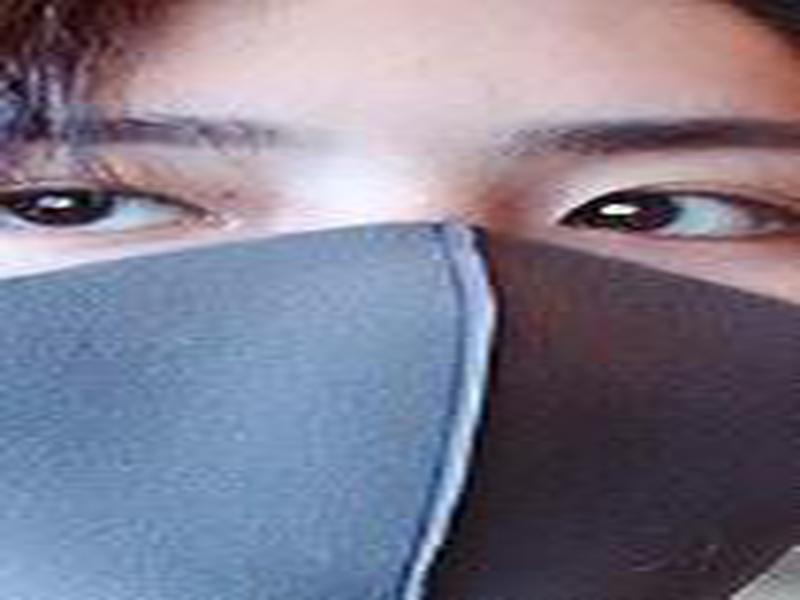with_mask: (1, 3, 799, 600)
